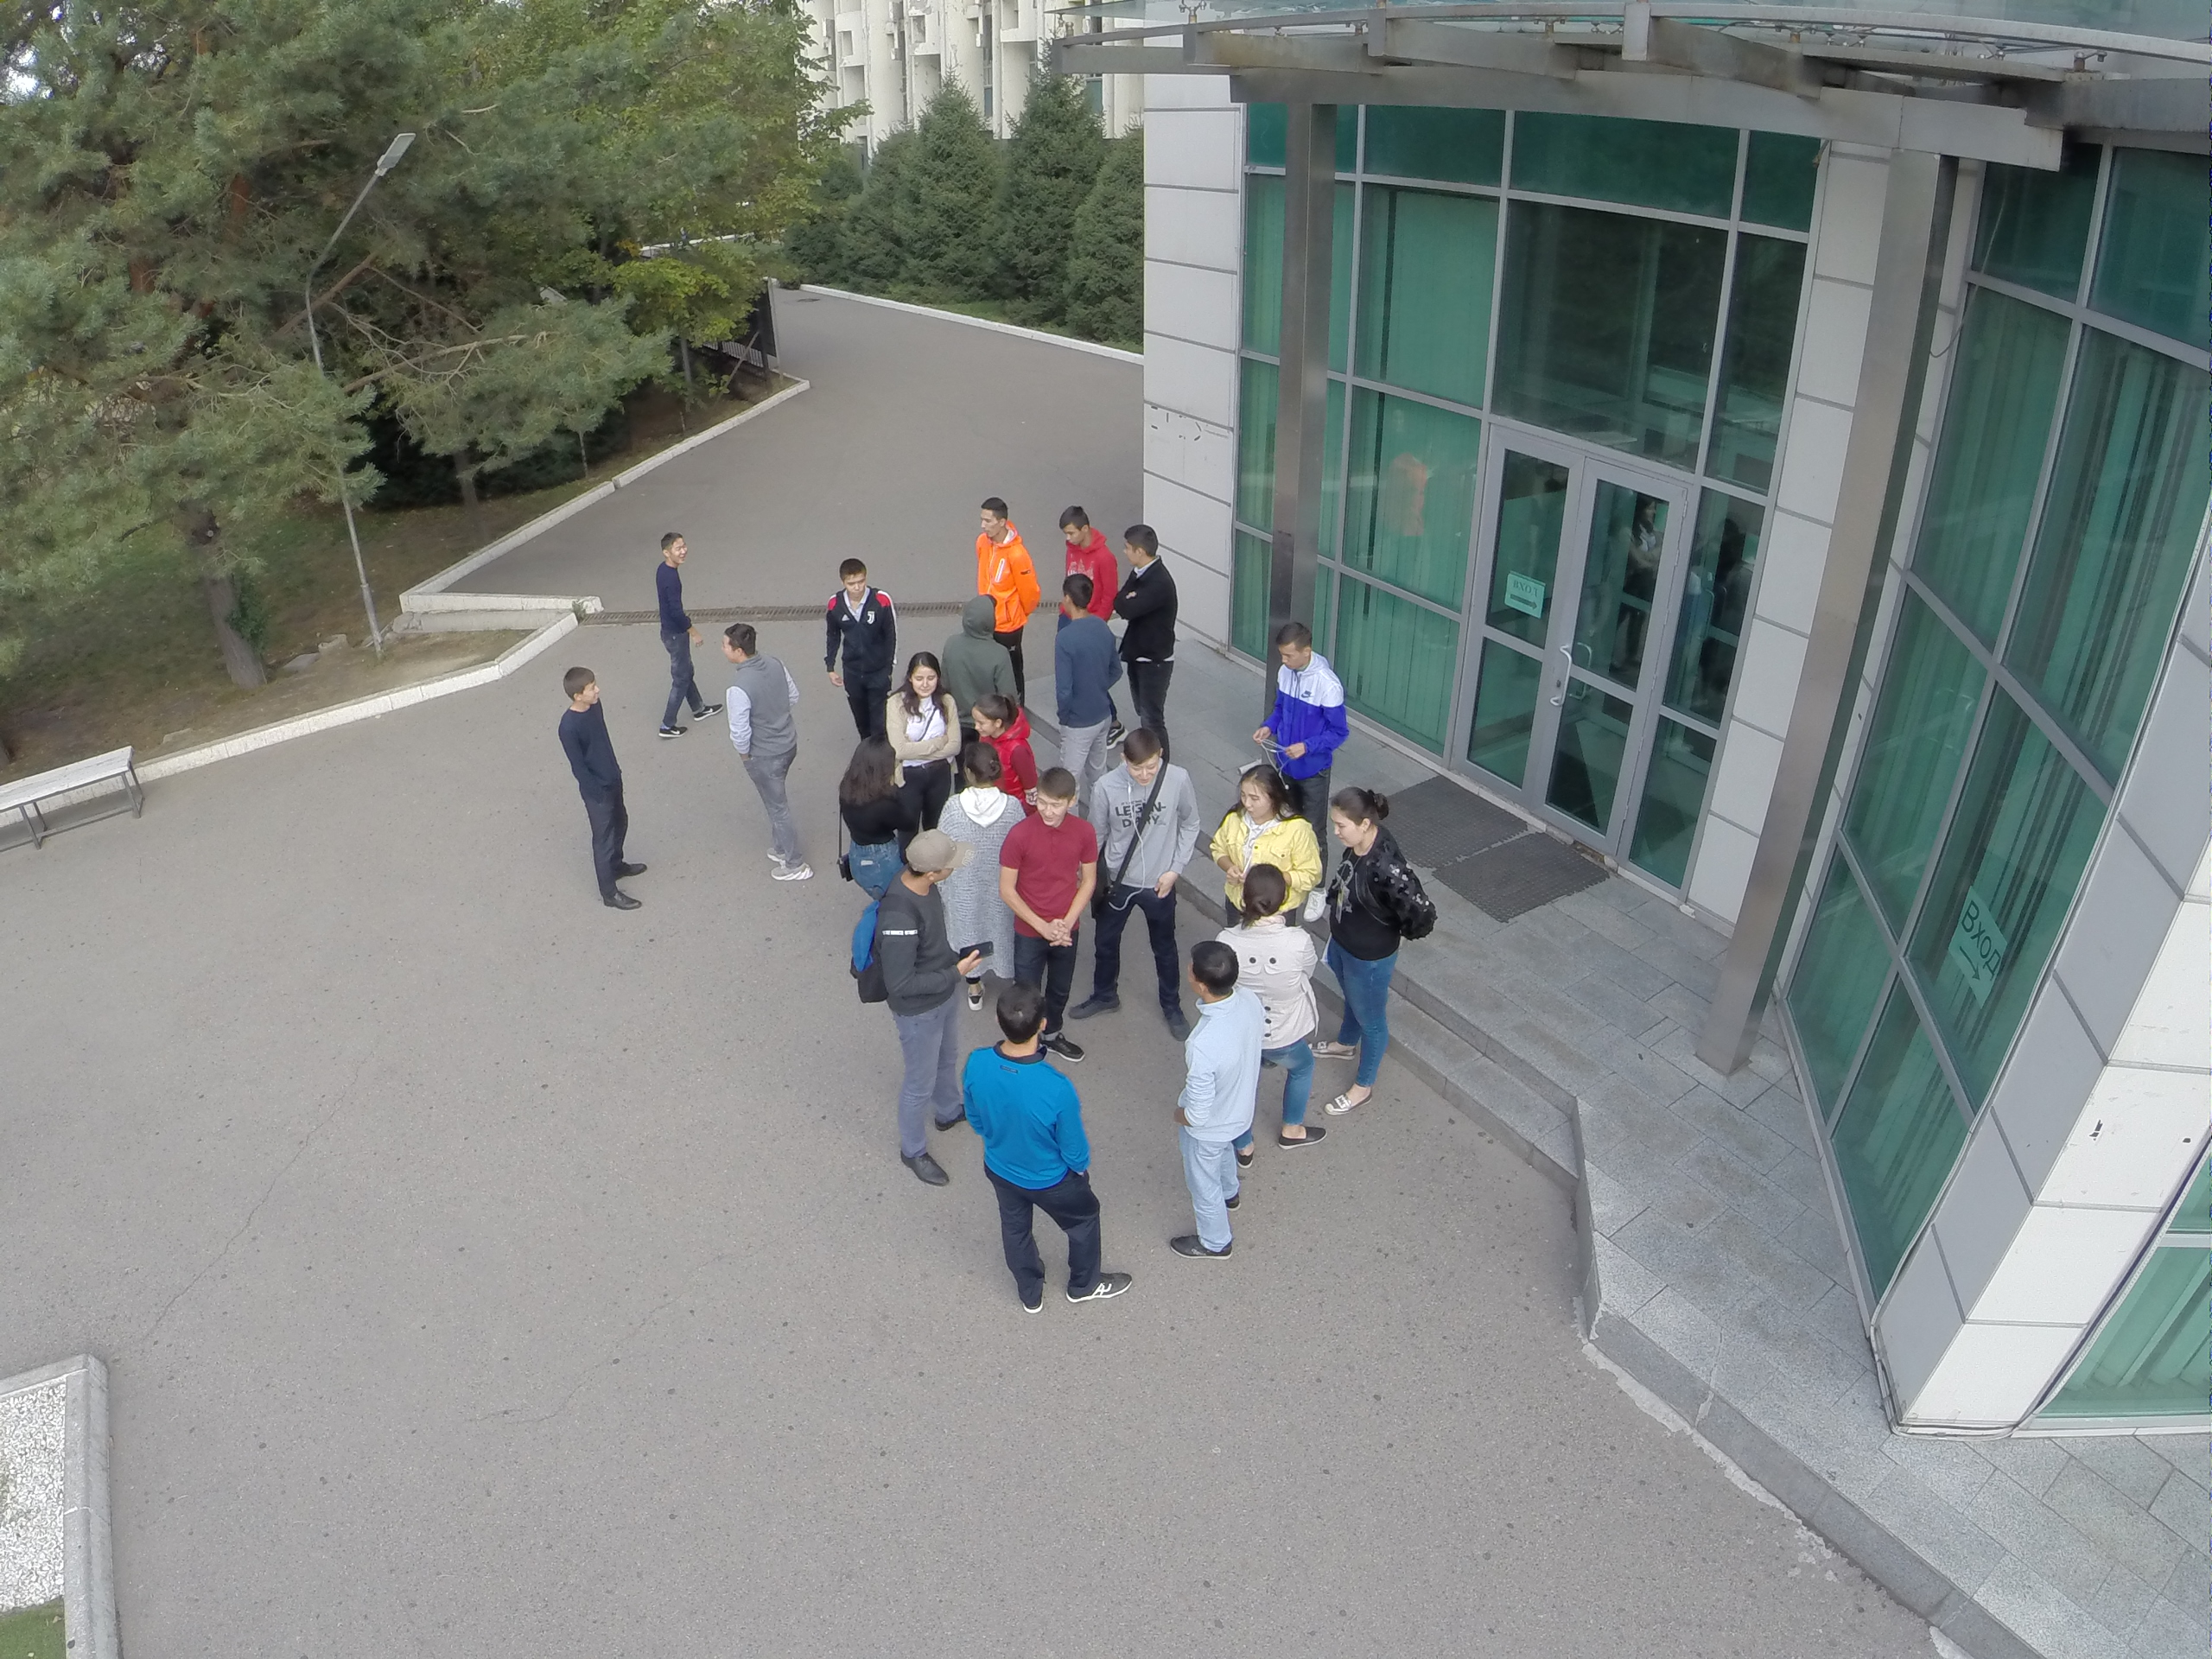person: (956, 992, 1144, 1335), (1299, 793, 1431, 1131), (867, 834, 979, 1170), (1091, 726, 1195, 1039), (1160, 941, 1258, 1271), (544, 664, 658, 923), (1007, 769, 1104, 1063), (717, 626, 826, 890), (1233, 877, 1325, 1152), (943, 745, 1024, 987), (648, 534, 728, 738), (830, 735, 896, 988), (1043, 577, 1146, 734), (1258, 620, 1343, 790), (1127, 518, 1192, 724), (1211, 766, 1326, 878), (821, 560, 893, 735), (943, 598, 1024, 724), (888, 655, 952, 777), (963, 495, 1031, 601), (1039, 503, 1114, 583)
